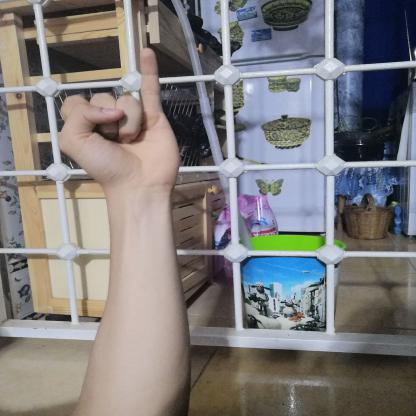MEEM: (42, 42, 192, 195)
